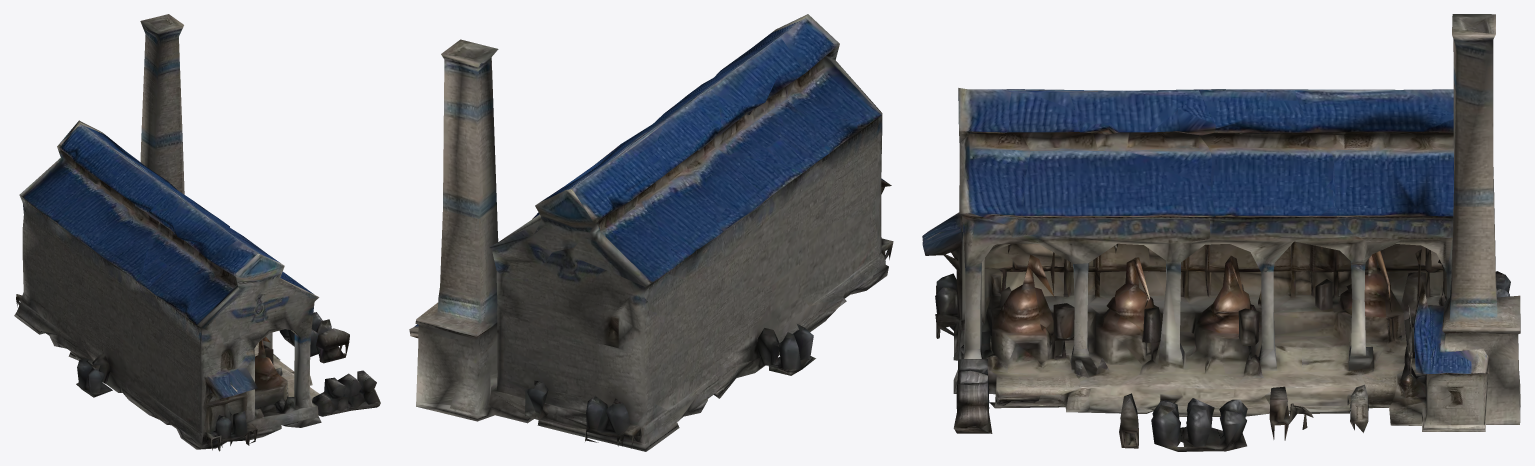
The model's file is oil_refinery_1.glb.
3 views of the same model, side by side, from view 1: azimuth 30°, elevation 25°; view 2: azimuth 150°, elevation 25°; view 3: azimuth 270°, elevation 25° (orthographic). The views are drawn at different scales.
Visible parts, largest first — view 1: tripo_node_c09eca18-8cd5-4da7-8ff6-2cf6d75db65c; view 2: tripo_node_c09eca18-8cd5-4da7-8ff6-2cf6d75db65c; view 3: tripo_node_c09eca18-8cd5-4da7-8ff6-2cf6d75db65c.
Boxes of the visible parts, box(x1,y1,x2,y2) form: tripo_node_c09eca18-8cd5-4da7-8ff6-2cf6d75db65c: box(14, 14, 380, 451); tripo_node_c09eca18-8cd5-4da7-8ff6-2cf6d75db65c: box(409, 14, 893, 451); tripo_node_c09eca18-8cd5-4da7-8ff6-2cf6d75db65c: box(922, 14, 1520, 451).
Bounding box in the file's own units: 0.6435 × 0.6969 × 0.9827.
1 material, 1 textured.
